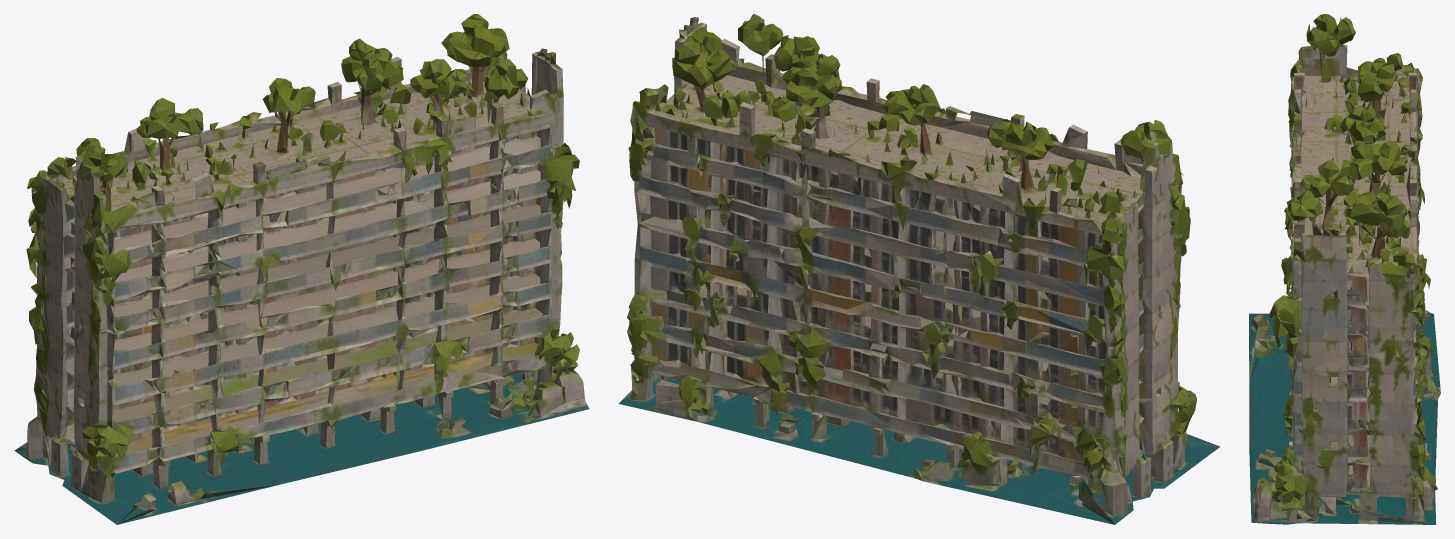
File: cityFlat.glb
The picture shows the model from 3 angles, left to right: view 1: azimuth 30°, elevation 25°; view 2: azimuth 150°, elevation 25°; view 3: azimuth 270°, elevation 25°; orthographic projection. The views are drawn at different scales.
Parts seen in each view (by area): view 1: output_unwrapped; view 2: output_unwrapped; view 3: output_unwrapped.
Boxes of the visible parts, x1,y1,x2,y2 form: output_unwrapped: [14, 14, 589, 524]; output_unwrapped: [618, 14, 1219, 524]; output_unwrapped: [1249, 14, 1440, 524].
Bounding box in the file's own units: 1.9 × 1.31 × 0.7269.
1 material, 1 textured.
